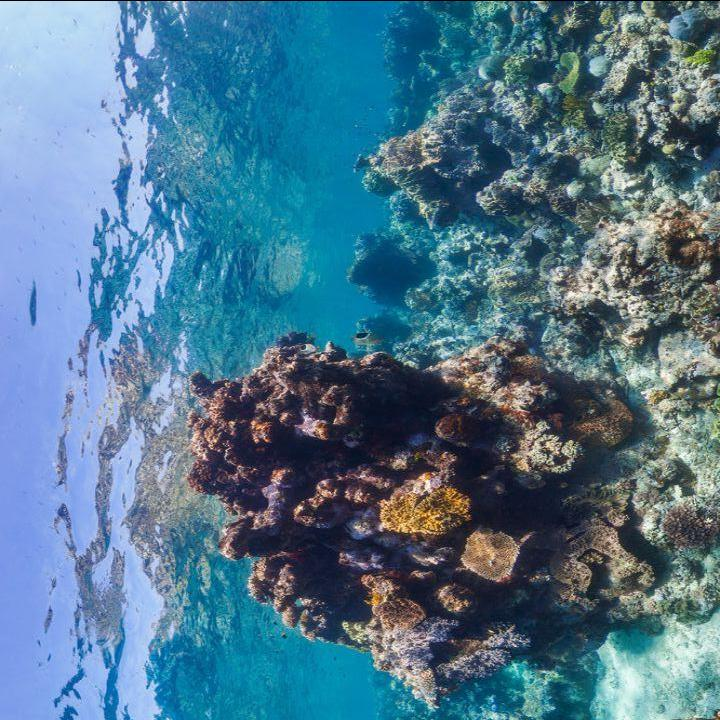Dead Coral: (183, 273, 649, 698)
